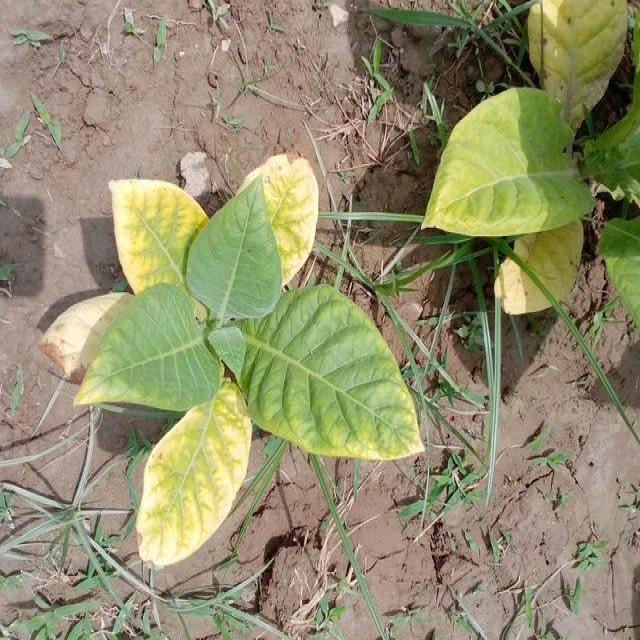crop: (68, 152, 398, 555), (426, 12, 640, 320)
